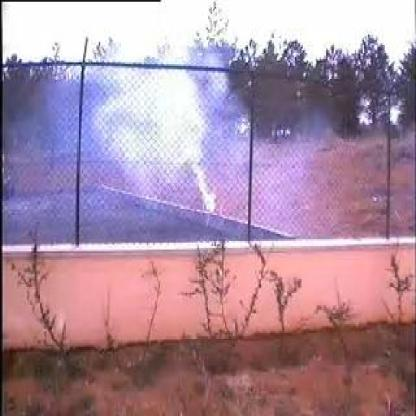-: (51, 51, 233, 240)
